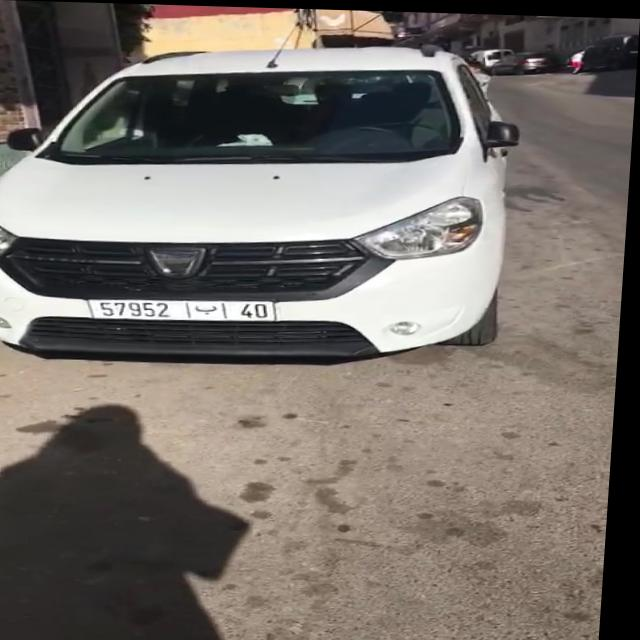License-Plate: (93, 298, 278, 319)
